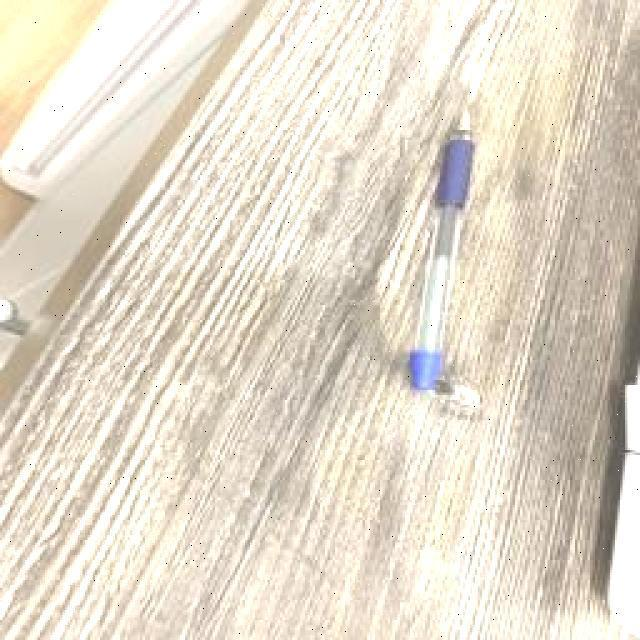pen: (410, 108, 475, 393)
